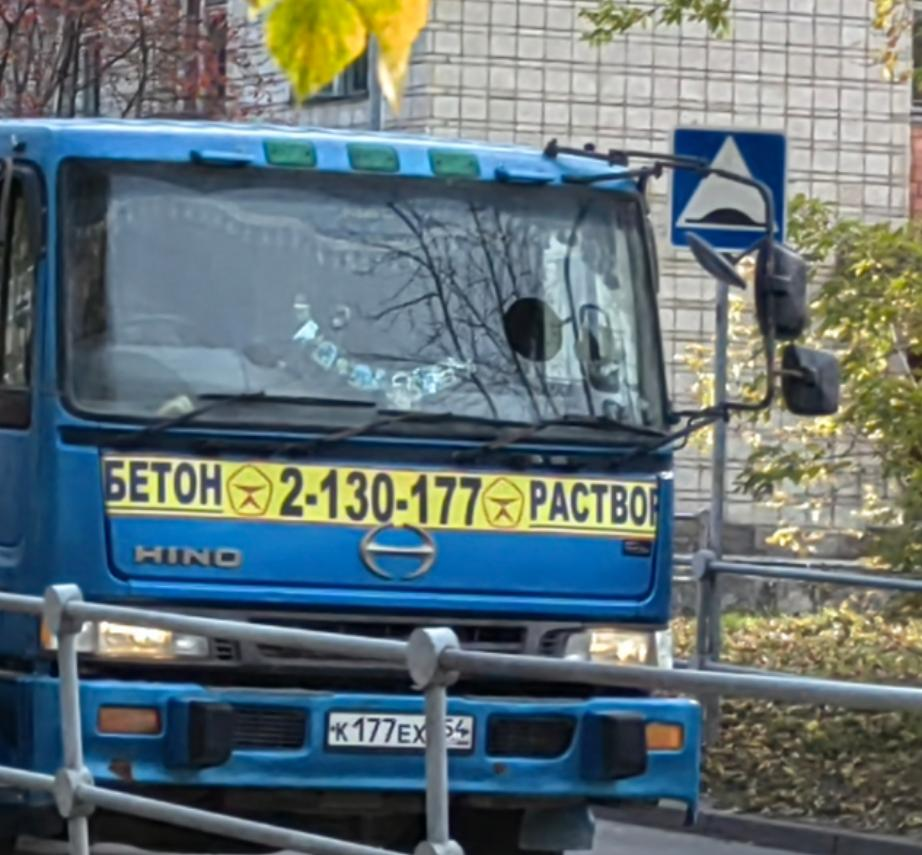obstructed_road_sign: (672, 128, 787, 245)
